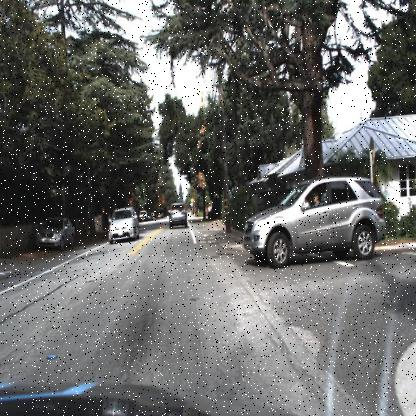car: (241, 177, 389, 271), (31, 213, 80, 253), (34, 212, 75, 249), (107, 204, 139, 244), (166, 207, 187, 236)
